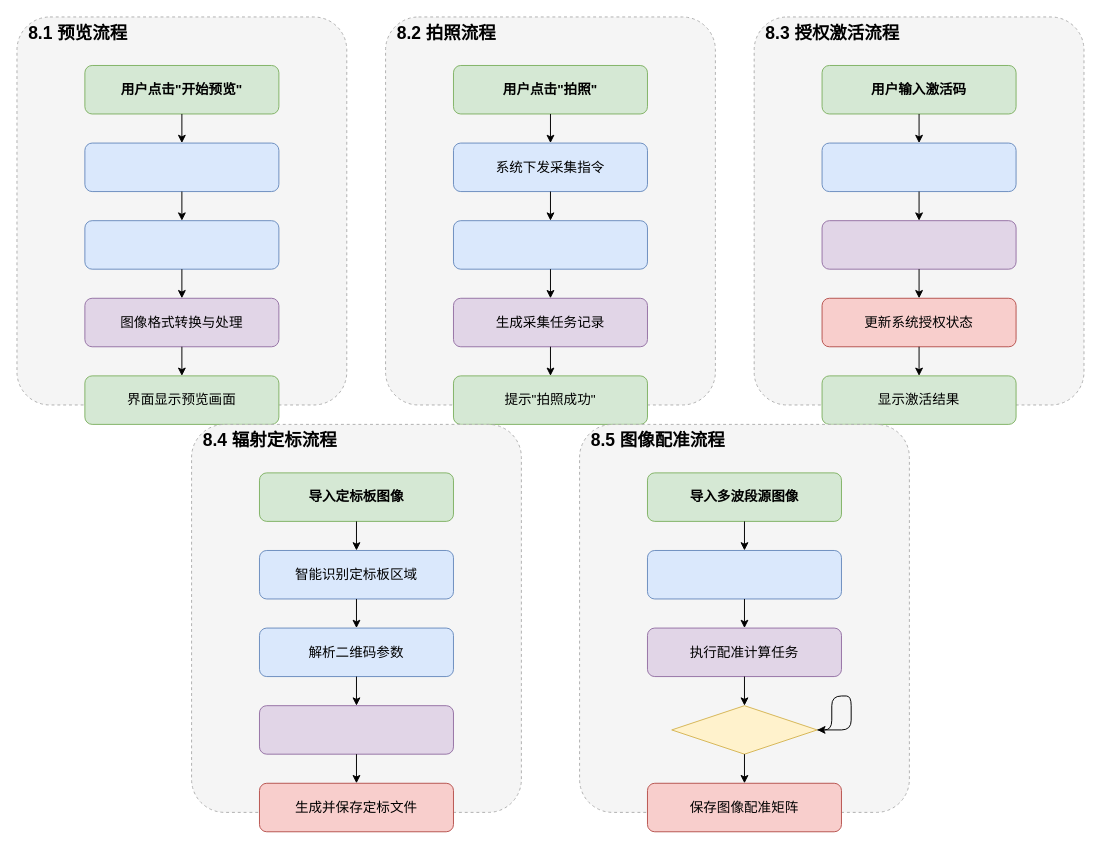
Some shapes in this 1101 by 849 pixel diagram are drawn without their labels. The shapes that lost their labels are listed below. From the top down, each one's centre as x and y in pixels, then its label:
At point 181,167: "系统请求相机连接".
At point 918,167: "连接服务器验证授权".
At point 181,244: "获取实时图像数据".
At point 550,244: "相机执行曝光拍摄".
At point 918,244: "激活码加密校验".
At point 744,574: "读取相机畸变参数".
At point 356,729: "计算辐射亮度系数".
At point 744,729: "计算中...".
